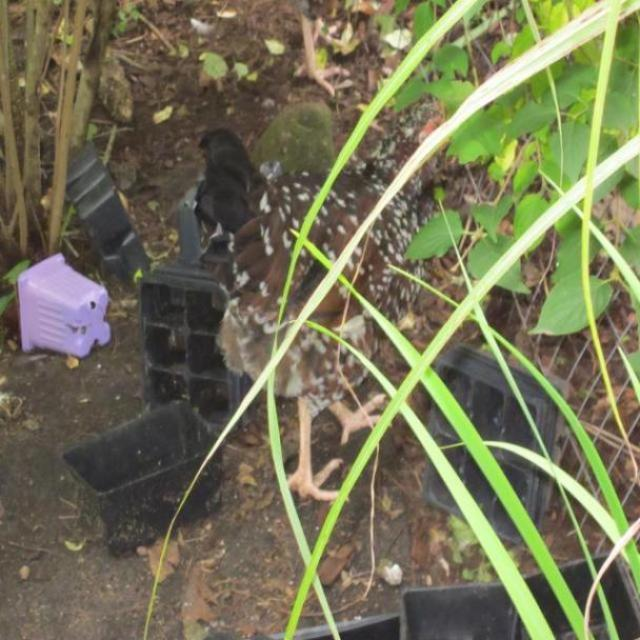Chicken: (202, 108, 449, 498)
